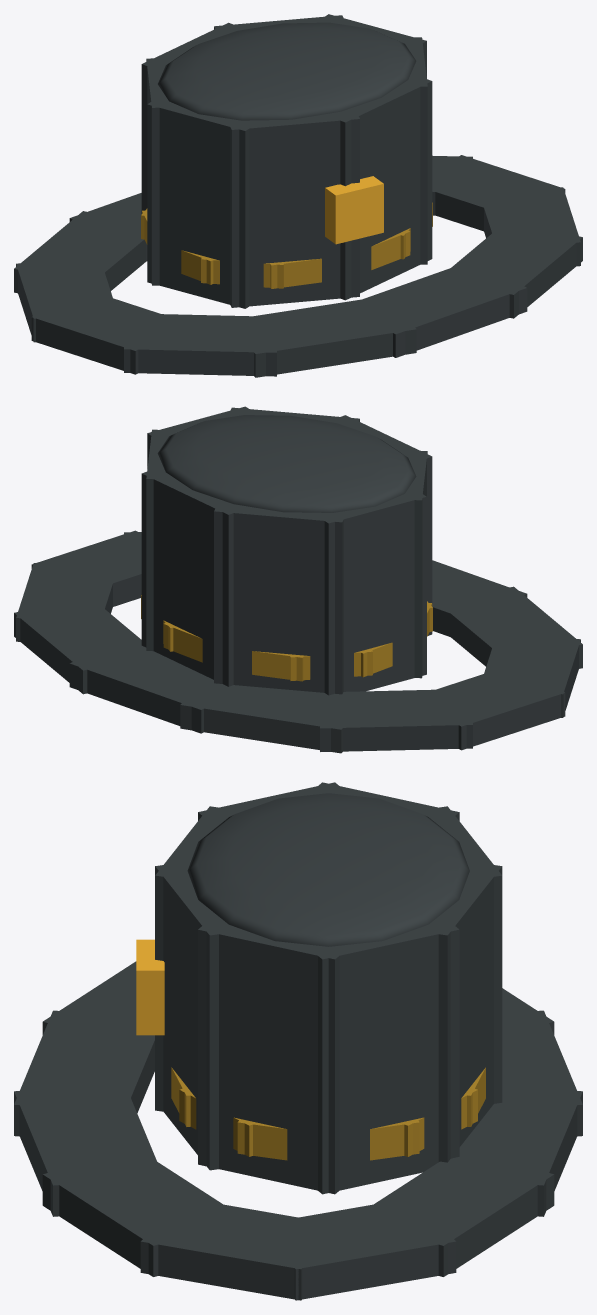
The model's file is CMU3DAU14HatUSArmyWorldCloud.glb.
The picture shows the model from 3 angles, top to bottom: view 1: azimuth 30°, elevation 25°; view 2: azimuth 150°, elevation 25°; view 3: azimuth 270°, elevation 25°; orthographic projection. The views are drawn at different scales.
Parts seen in each view (by area): view 1: cavalry crown closed roof, hollow cavalry crown facet 05, hollow cavalry crown facet 04, hollow cavalry crown facet 06, turned cavalry brim facet 09, turned cavalry brim facet 07, turned cavalry brim facet 08, turned cavalry brim facet 10, turned cavalry brim facet 06, turned cavalry brim facet 00, turned cavalry brim facet 04, turned cavalry brim facet 05 (+13 smaller); view 2: cavalry crown closed roof, hollow cavalry crown facet 02, hollow cavalry crown facet 03, hollow cavalry crown facet 01, turned cavalry brim facet 03, turned cavalry brim facet 04, turned cavalry brim facet 02, turned cavalry brim facet 07, turned cavalry brim facet 01, turned cavalry brim facet 05, turned cavalry brim facet 06, turned cavalry brim facet 00 (+12 smaller); view 3: cavalry crown closed roof, hollow cavalry crown facet 00, hollow cavalry crown facet 07, turned cavalry brim facet 00, hollow cavalry crown facet 06, hollow cavalry crown facet 01, turned cavalry brim facet 10, turned cavalry brim facet 09, turned cavalry brim facet 01, turned cavalry brim facet 11, turned cavalry brim facet 08, turned cavalry brim facet 02 (+12 smaller).
Part boxes in pixels (<box>): cavalry crown closed roof: <box>158,22,416,120</box>; hollow cavalry crown facet 05: <box>227,107,359,307</box>; hollow cavalry crown facet 04: <box>147,94,260,308</box>; hollow cavalry crown facet 06: <box>325,73,432,300</box>; turned cavalry brim facet 09: <box>341,268,527,357</box>; turned cavalry brim facet 07: <box>124,314,281,376</box>; turned cavalry brim facet 08: <box>254,299,416,377</box>; turned cavalry brim facet 10: <box>438,221,582,318</box>; turned cavalry brim facet 06: <box>31,298,187,374</box>; turned cavalry brim facet 00: <box>432,155,565,231</box>; turned cavalry brim facet 04: <box>14,211,146,293</box>; turned cavalry brim facet 05: <box>16,259,117,342</box>; cavalry crown closed roof: <box>157,415,416,512</box>; hollow cavalry crown facet 02: <box>214,500,347,694</box>; hollow cavalry crown facet 03: <box>313,486,426,695</box>; hollow cavalry crown facet 01: <box>141,466,249,686</box>; turned cavalry brim facet 03: <box>180,676,367,753</box>; turned cavalry brim facet 04: <box>318,689,472,751</box>; turned cavalry brim facet 02: <box>69,647,247,733</box>; turned cavalry brim facet 07: <box>438,586,582,668</box>; turned cavalry brim facet 01: <box>14,596,158,694</box>; turned cavalry brim facet 05: <box>428,674,565,750</box>; turned cavalry brim facet 06: <box>479,634,580,717</box>; turned cavalry brim facet 00: <box>16,563,117,641</box>; cavalry crown closed roof: <box>187,793,469,946</box>; hollow cavalry crown facet 00: <box>304,914,459,1194</box>; hollow cavalry crown facet 07: <box>198,916,351,1194</box>; turned cavalry brim facet 00: <box>253,1197,456,1300</box>; hollow cavalry crown facet 06: <box>155,862,244,1170</box>; hollow cavalry crown facet 01: <box>423,861,502,1162</box>; turned cavalry brim facet 10: <box>42,1162,246,1276</box>; turned cavalry brim facet 09: <box>14,1083,163,1216</box>; turned cavalry brim facet 01: <box>350,1157,554,1276</box>; turned cavalry brim facet 11: <box>140,1198,342,1300</box>; turned cavalry brim facet 08: <box>14,1010,154,1136</box>; turned cavalry brim facet 02: <box>433,1085,582,1216</box>.
Size of the model in its own units: 0.3753 by 0.142 by 0.2634.
Materials: 3 (1 with a texture image).
